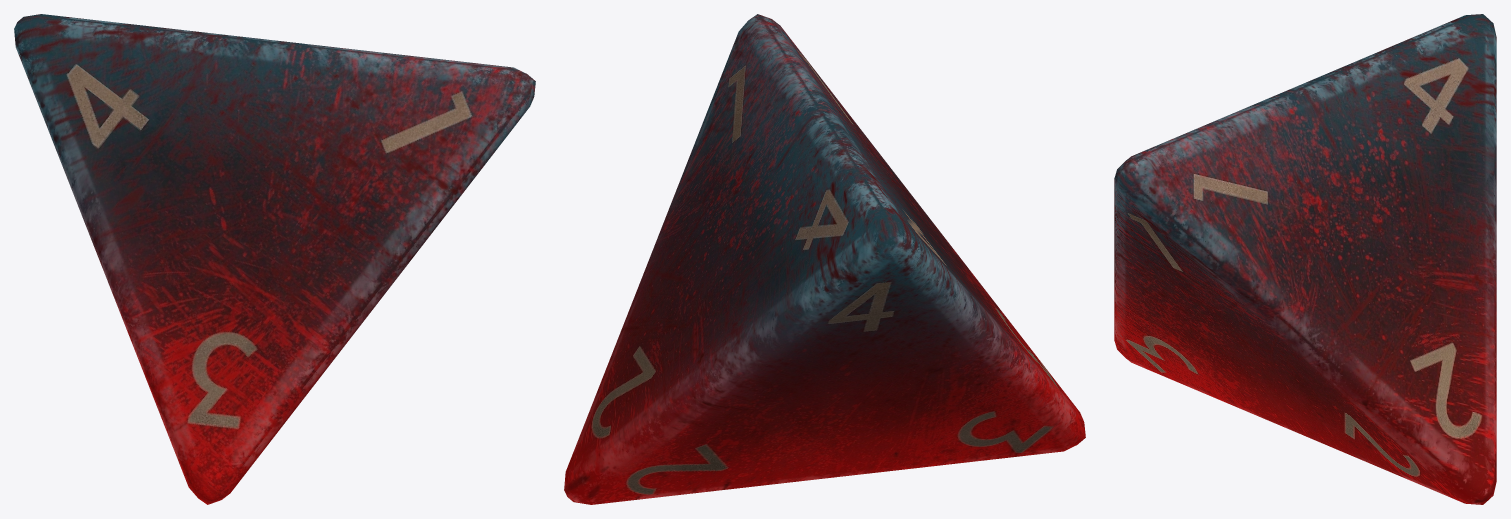
The model's file is TPK_d4.gltf.
3 renders of one model, left to right at view 1: azimuth 30°, elevation 25°; view 2: azimuth 150°, elevation 25°; view 3: azimuth 270°, elevation 25°, orthographic. The views are drawn at different scales.
Parts seen in each view (by area): view 1: dice_4; view 2: dice_4; view 3: dice_4.
Part boxes in pixels (left/top/right/bottom): dice_4: left=14, top=14, right=535, bottom=504; dice_4: left=564, top=14, right=1085, bottom=504; dice_4: left=1114, top=14, right=1496, bottom=504.
Size of the model in its own units: 128 by 128 by 128.
Materials: 1 (1 with a texture image).
